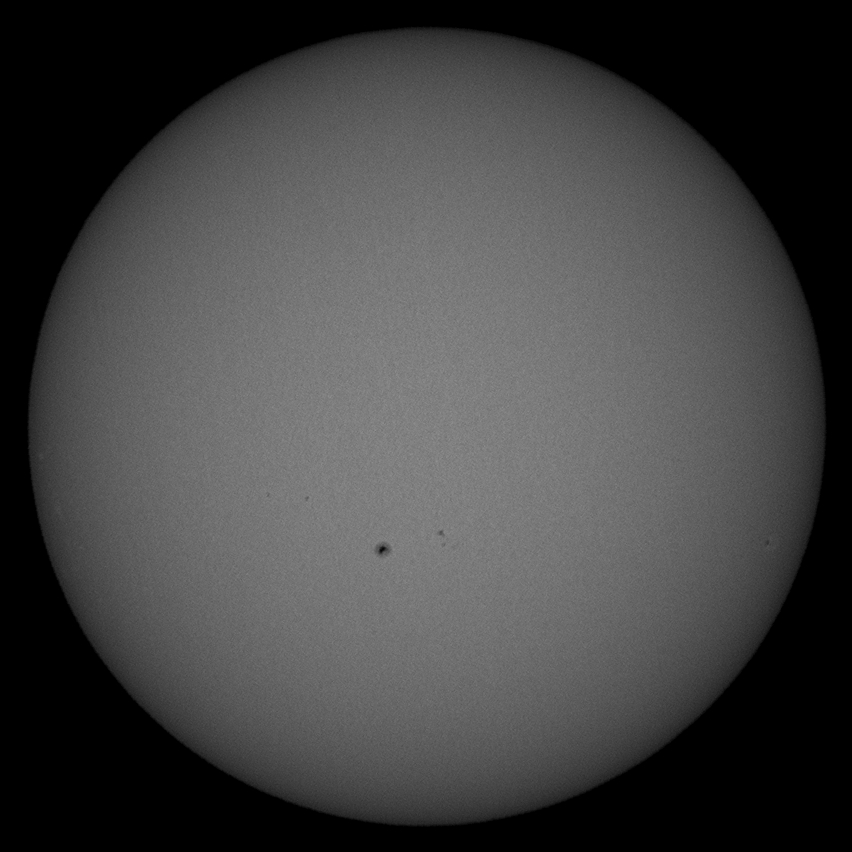sunspot: (368, 538, 396, 560), (432, 523, 453, 548)
